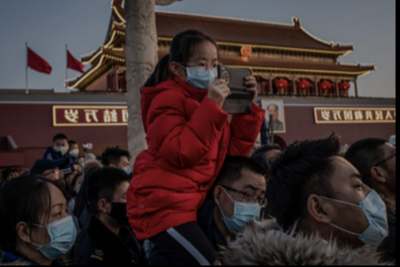mask_weared_incorrect: (45, 167, 66, 191)
with_mask: (322, 167, 387, 249), (29, 197, 75, 258), (217, 183, 268, 233), (180, 53, 220, 91), (105, 183, 130, 224), (115, 157, 130, 175), (53, 141, 70, 153), (70, 144, 79, 156)
